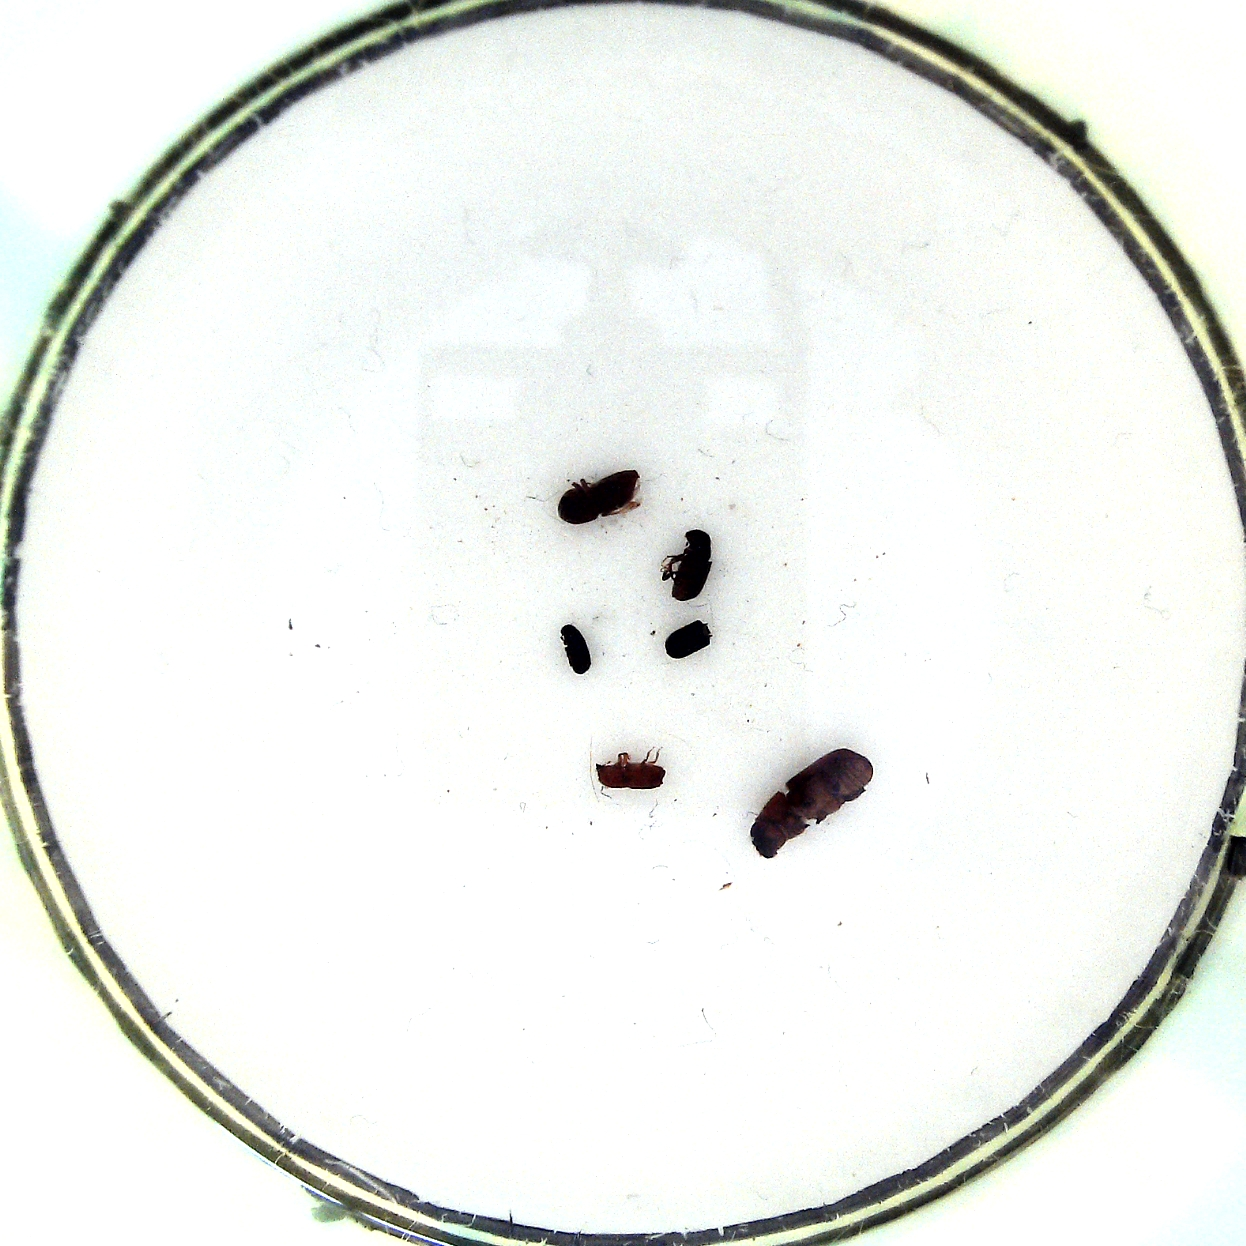Leconte: (747, 742, 877, 861)
Linnaeus: (557, 462, 647, 532)
acuminatus: (592, 742, 670, 799)
armandi: (660, 527, 718, 606)
coleoptera: (660, 613, 721, 663), (555, 618, 594, 675)
